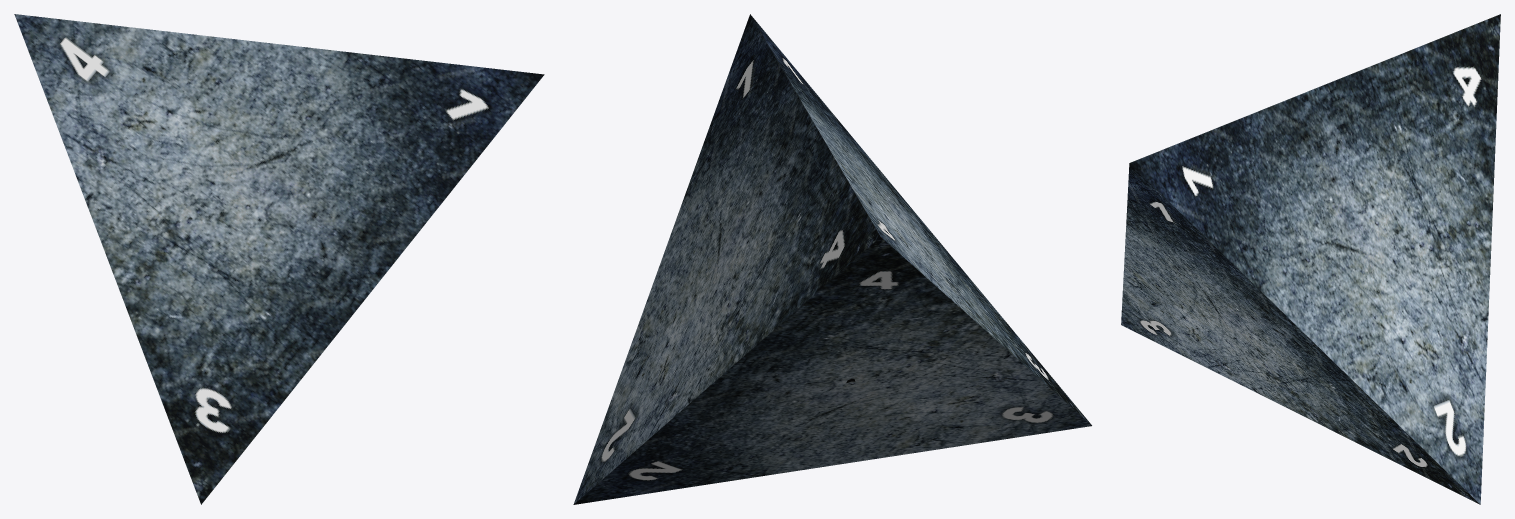
File: msq-d4.glb
3 views of the same model, side by side, from view 1: azimuth 30°, elevation 25°; view 2: azimuth 150°, elevation 25°; view 3: azimuth 270°, elevation 25° (orthographic). The views are drawn at different scales.
Parts seen in each view (by area): view 1: Blade_low; view 2: Blade_low; view 3: Blade_low.
Boxes of the visible parts, x1,y1,x2,y2 form: Blade_low: (14, 14, 544, 504); Blade_low: (573, 14, 1091, 504); Blade_low: (1121, 14, 1500, 504).
Bounding box in the file's own units: 146 × 148 × 148.
Materials: 3 (1 with a texture image).
